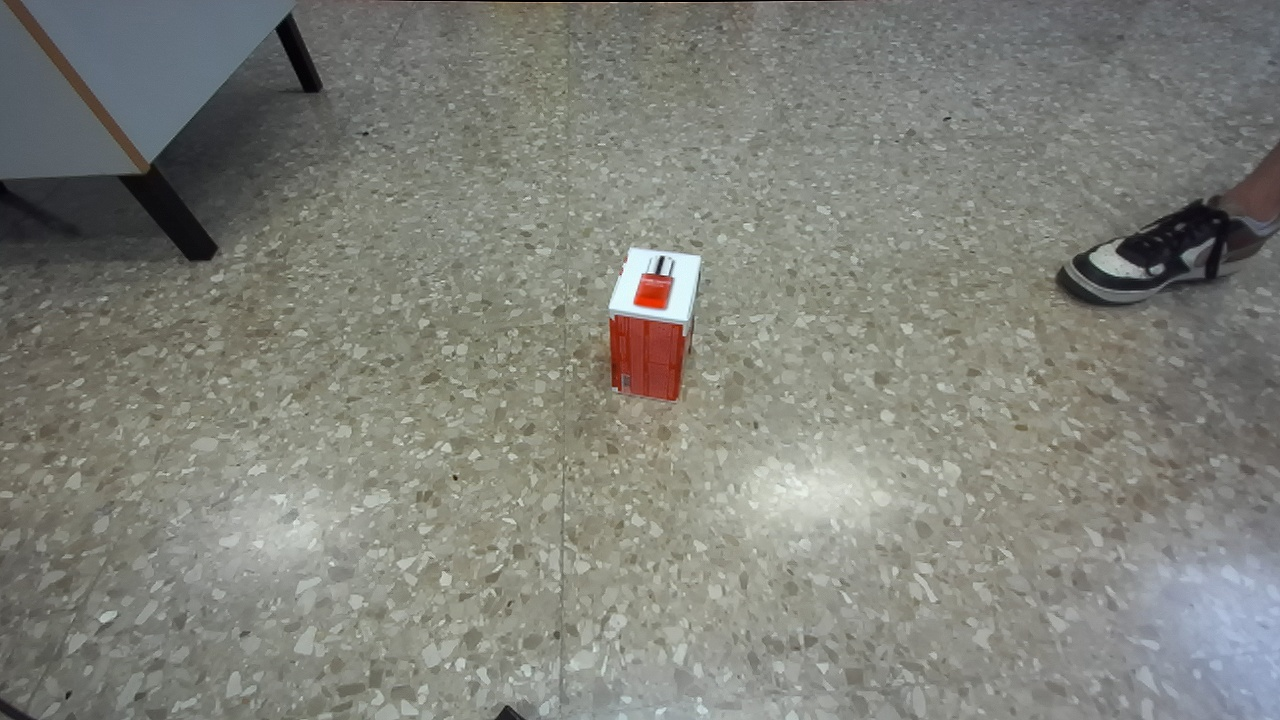caja_potencia: (608, 248, 700, 399)
